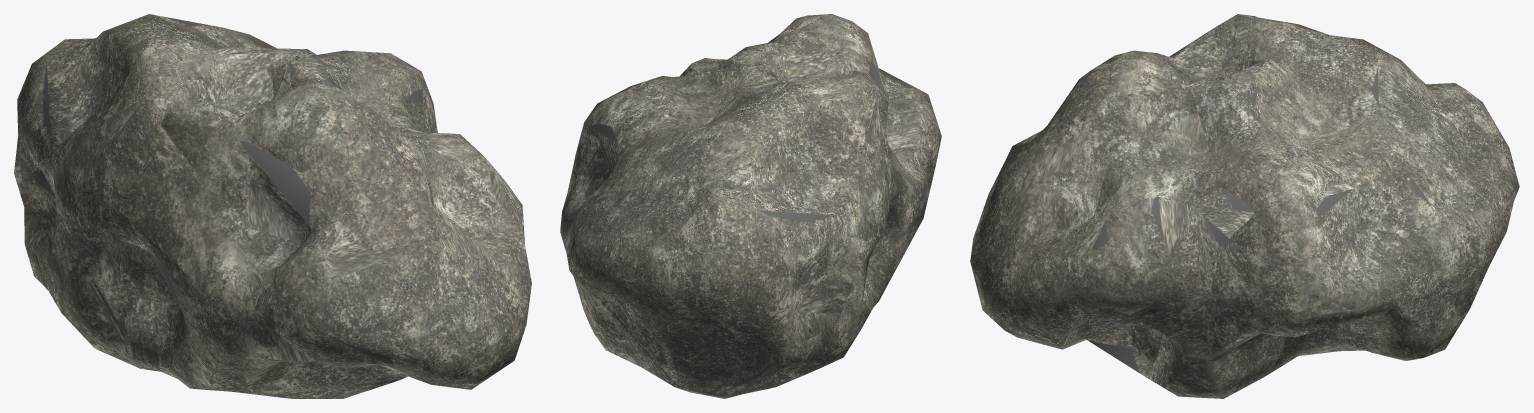
The model's file is PitRock_01.DAE.
3 views of the same model, side by side, from view 1: azimuth 30°, elevation 25°; view 2: azimuth 150°, elevation 25°; view 3: azimuth 270°, elevation 25° (orthographic). The views are drawn at different scales.
Parts seen in each view (by area): view 1: PitRockOne200, PitRockOne100; view 2: PitRockOne200, PitRockOne100; view 3: PitRockOne200, PitRockOne100.
Boxes of the visible parts, x1,y1,x2,y2 form: PitRockOne200: (14,14,531,398); PitRockOne100: (18,14,522,398); PitRockOne200: (560,14,941,398); PitRockOne100: (560,20,935,395); PitRockOne200: (970,14,1519,398); PitRockOne100: (974,14,1519,389).
Size of what is drawn, in the model's own units: 6.47 by 9.72 by 6.01.
